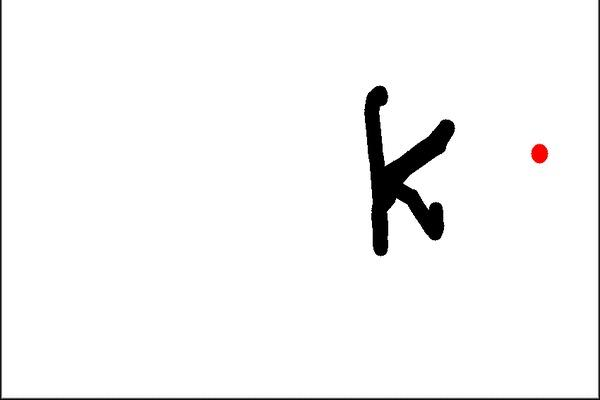K: (355, 80, 462, 261)
